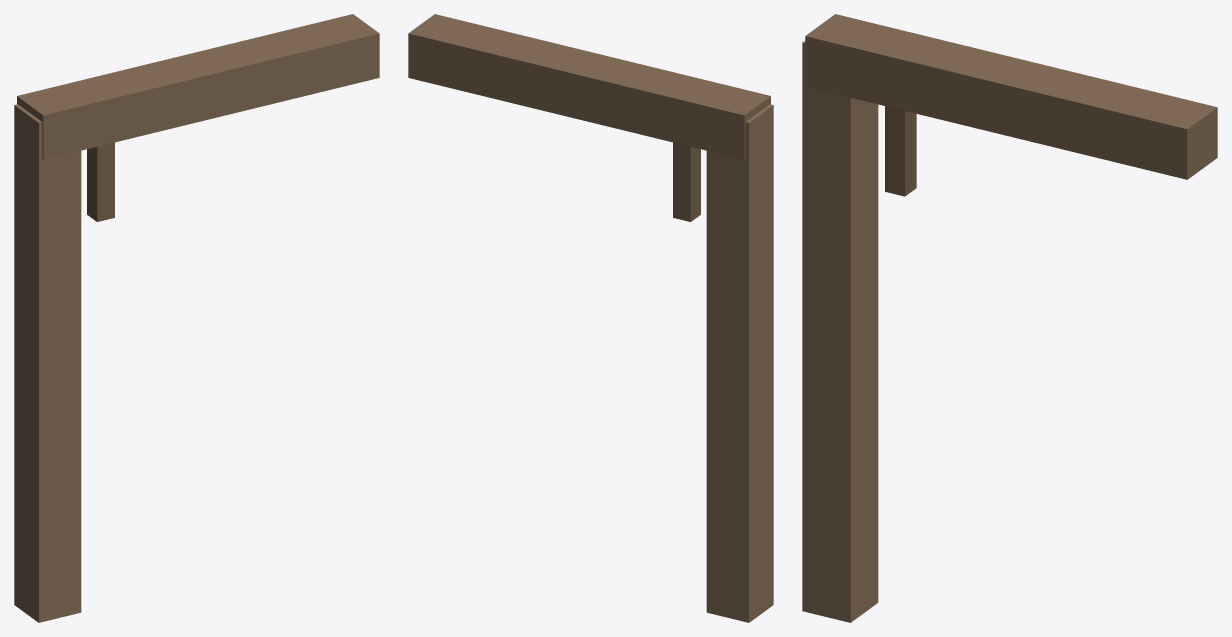
The model's file is mine_prop.glb.
3 views of the same model, side by side, from view 1: azimuth 30°, elevation 25°; view 2: azimuth 150°, elevation 25°; view 3: azimuth 330°, elevation 25° (orthographic). The views are drawn at different scales.
Visible parts, largest first — view 1: mine_prop; view 2: mine_prop; view 3: mine_prop.
Boxes of the visible parts, box(x1,y1,x2,y2) form: mine_prop: box(14, 14, 379, 622); mine_prop: box(408, 14, 773, 622); mine_prop: box(802, 14, 1217, 622).
Bounding box in the file's own units: 1.92 × 2.74 × 0.26.
